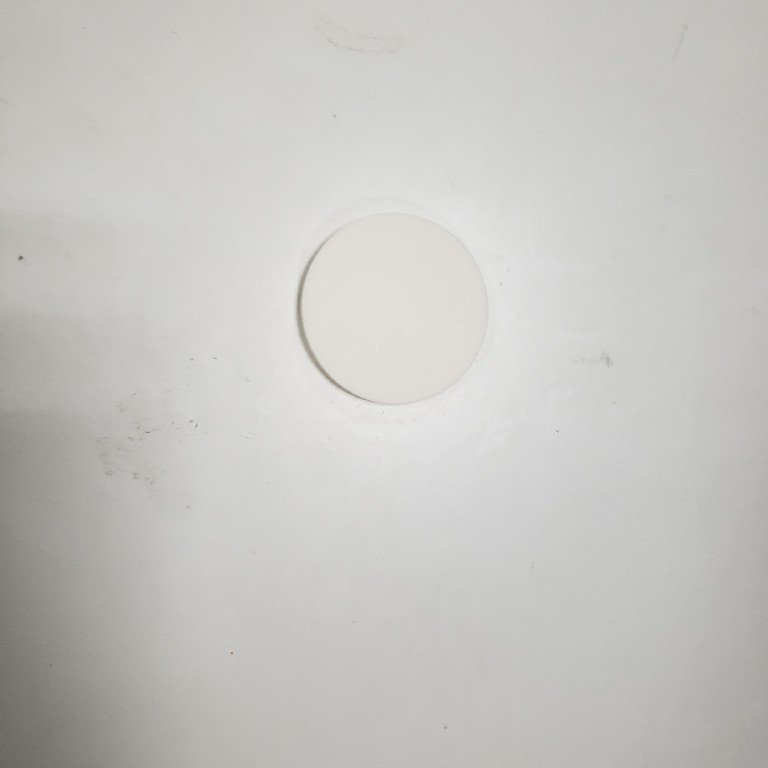ceramics: (294, 207, 497, 410)
